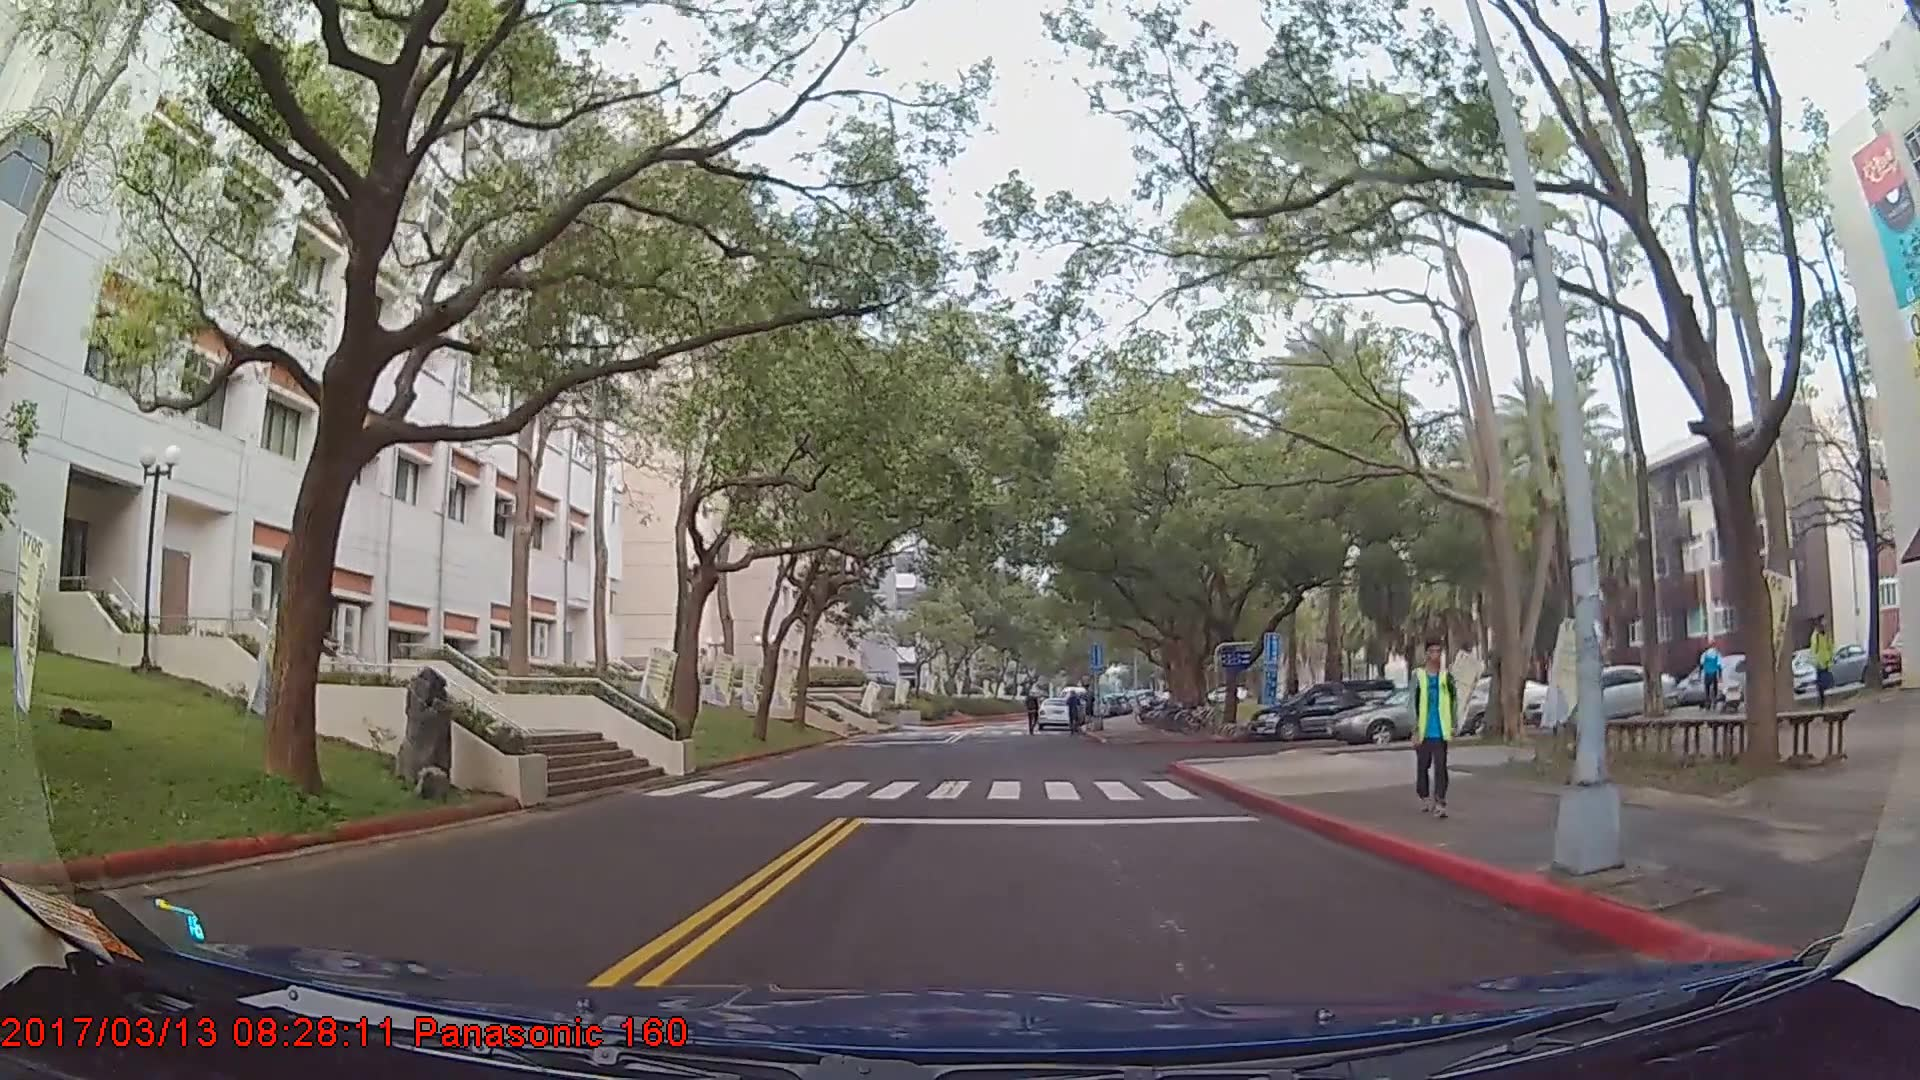pedestrian: (1400, 629, 1460, 811), (1694, 626, 1728, 717), (1809, 615, 1838, 717), (1065, 689, 1086, 734), (1024, 689, 1044, 736)
vehicle: (1325, 680, 1503, 744), (1524, 662, 1677, 730), (1253, 678, 1395, 741), (1787, 640, 1874, 691), (1035, 694, 1077, 732)
